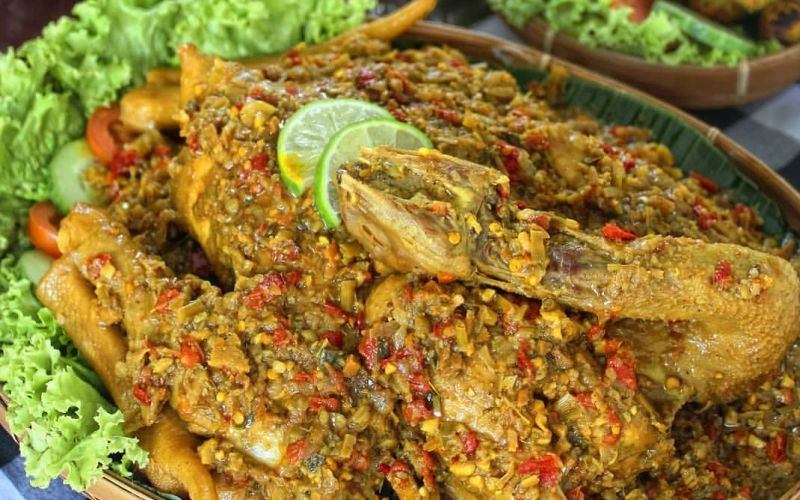ayam_betutu: (35, 47, 800, 500)
